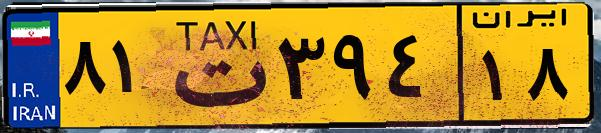1: (475, 38, 525, 113), (110, 28, 158, 98)
3: (270, 28, 330, 110)
4: (385, 28, 445, 110)
8: (57, 26, 110, 100), (525, 38, 570, 115)
9: (330, 28, 385, 110)
ت: (158, 12, 270, 120)
